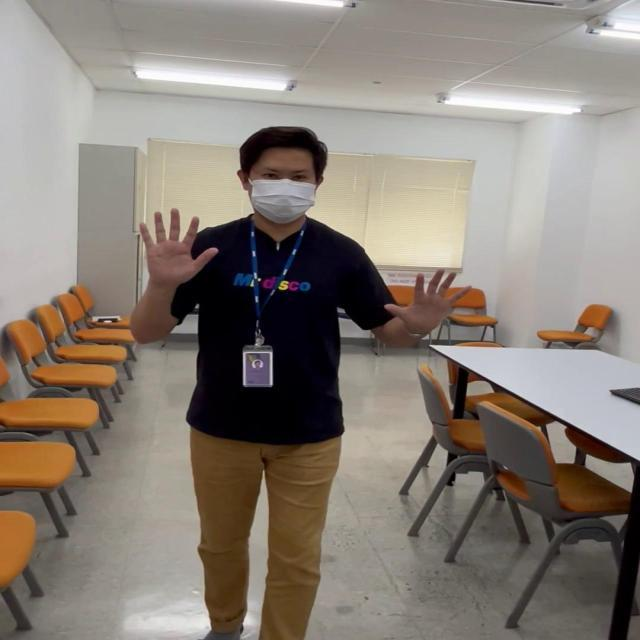bare_hand: (134, 204, 219, 282), (383, 266, 468, 332)
